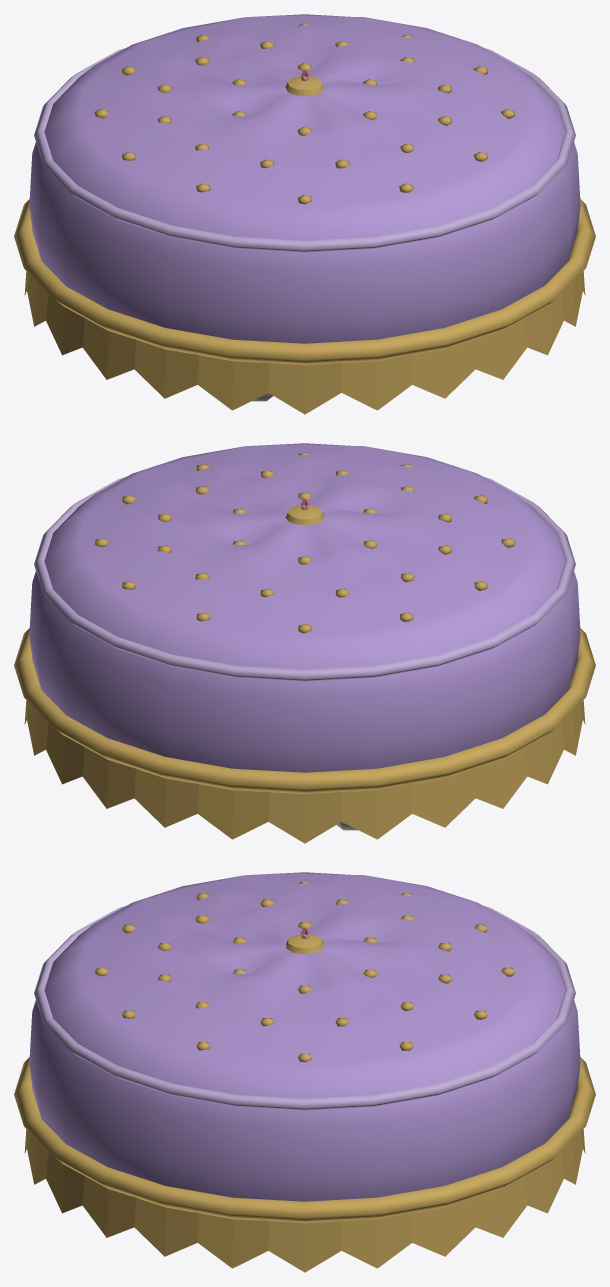
The model's file is ottoman_tufted.glb.
The picture shows the model from 3 angles, top to bottom: view 1: azimuth 30°, elevation 25°; view 2: azimuth 150°, elevation 25°; view 3: azimuth 270°, elevation 25°; orthographic projection.
Visible parts, largest first — view 1: ottoman_tufted; view 2: ottoman_tufted; view 3: ottoman_tufted.
Boxes of the visible parts, x1=… form: ottoman_tufted: x1=14, y1=14, x2=595, y2=414; ottoman_tufted: x1=14, y1=443, x2=595, y2=843; ottoman_tufted: x1=14, y1=872, x2=595, y2=1272.
Size of what is drawn, in the model's own units: 0.95 by 0.45 by 0.95.
